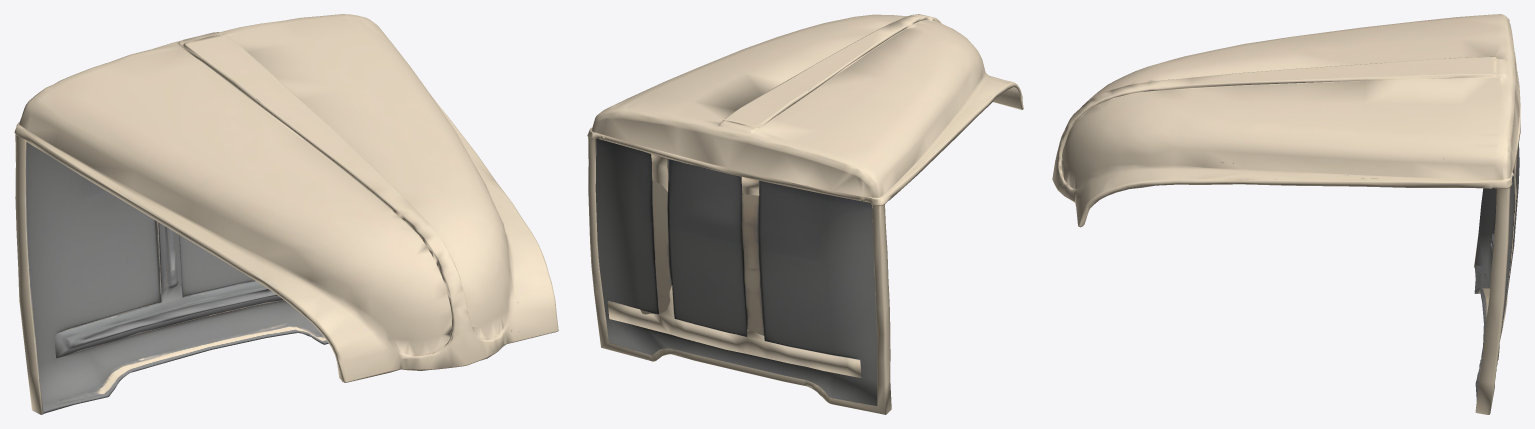
File: original_glb.glb
3 views of the same model, side by side, from view 1: azimuth 30°, elevation 25°; view 2: azimuth 150°, elevation 25°; view 3: azimuth 270°, elevation 25° (orthographic). The views are drawn at different scales.
Visible parts, largest first — view 1: hood; view 2: hood; view 3: hood.
Part boxes in pixels (x1,y1,x2,y2): hood: [14, 14, 558, 414]; hood: [587, 14, 1023, 414]; hood: [1052, 14, 1520, 414].
Size of the model in its own units: 0.7676 by 0.6504 by 0.998.
Materials: 1 (1 with a texture image).
